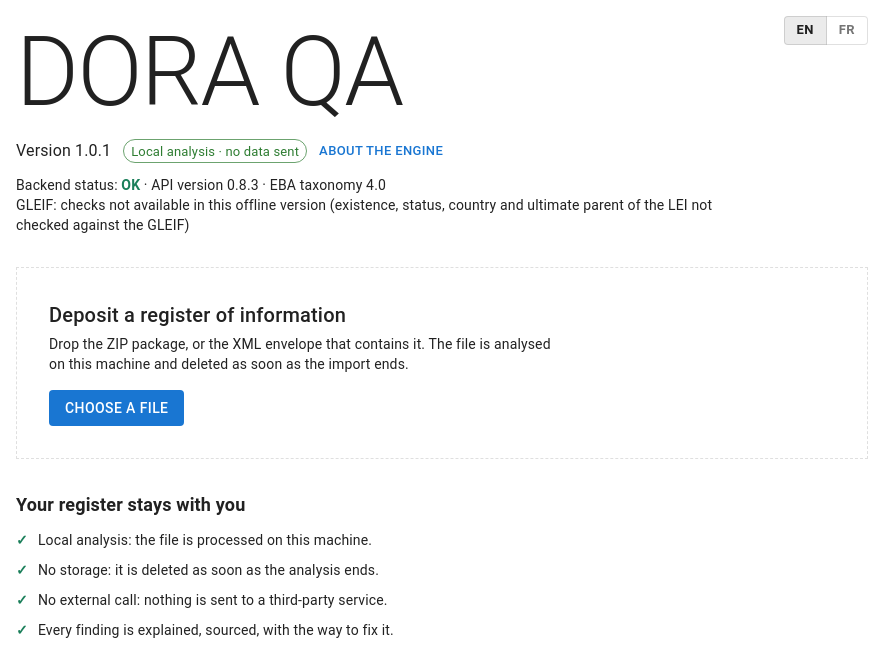
it: Language › switches the whole interface to French and remembers the choice
Later steps or results of the test are not shown.
Expected: the element named "Language" is shown, x1=784 y1=16 x2=868 y2=45
Click the button with aria-label "Français": x=847, y=30 x1=826 y1=16 x2=868 y2=45
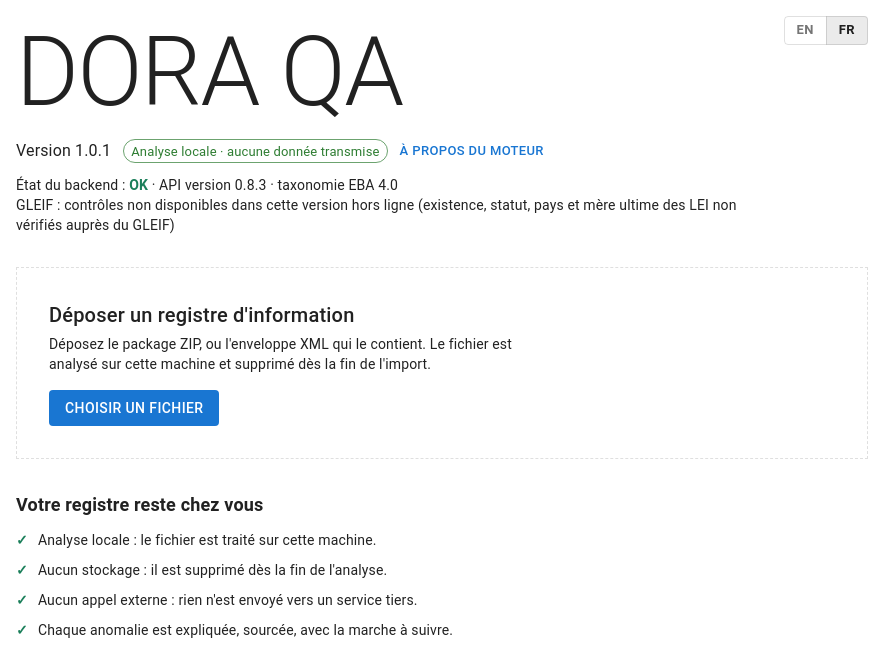
Result: the text "Déposer un registre d'information" is shown at x1=49 y1=303 x2=354 y2=327
Result: the button "Choisir un fichier" is shown at x1=49 y1=390 x2=220 y2=426
Result: the text "État du backend : OK · API version 0.8.3 · taxonomie EBA 4.0" is shown at x1=16 y1=177 x2=398 y2=193
